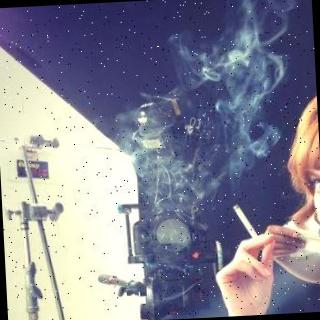smoke: (103, 8, 290, 208)
